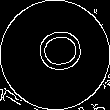O_W: (27, 30, 83, 80)
